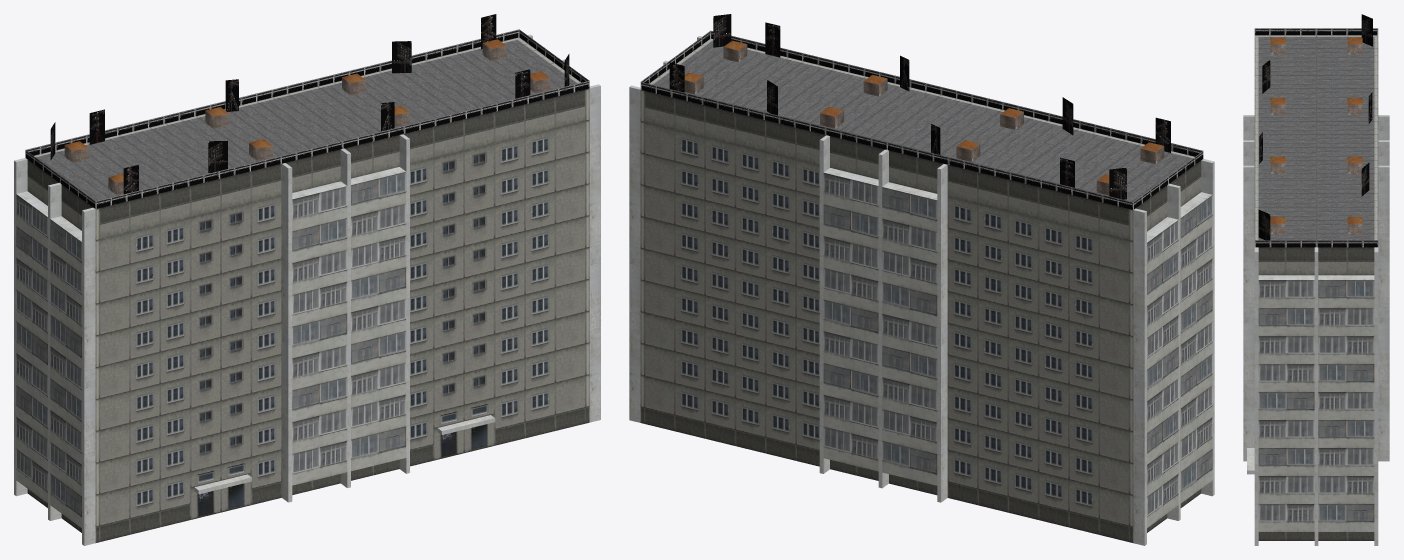
The model's file is rus_build_9et_03.fbx.
3 renders of one model, left to right at view 1: azimuth 30°, elevation 25°; view 2: azimuth 150°, elevation 25°; view 3: azimuth 270°, elevation 25°, orthographic. The views are drawn at different scales.
Parts seen in each view (by area): view 1: Regroup13, rus_build_dec_01; view 2: Regroup13, rus_build_dec_01; view 3: Regroup13, rus_build_dec_01.
Boxes of the visible parts, box(x1,y1,x2,y2) form: Regroup13: box(14, 34, 600, 545); rus_build_dec_01: box(25, 14, 589, 208); Regroup13: box(629, 36, 1214, 545); rus_build_dec_01: box(640, 14, 1203, 209); Regroup13: box(1243, 35, 1389, 545); rus_build_dec_01: box(1254, 14, 1378, 247).
Size of the model in its own units: 4760 by 3220 by 1330.
